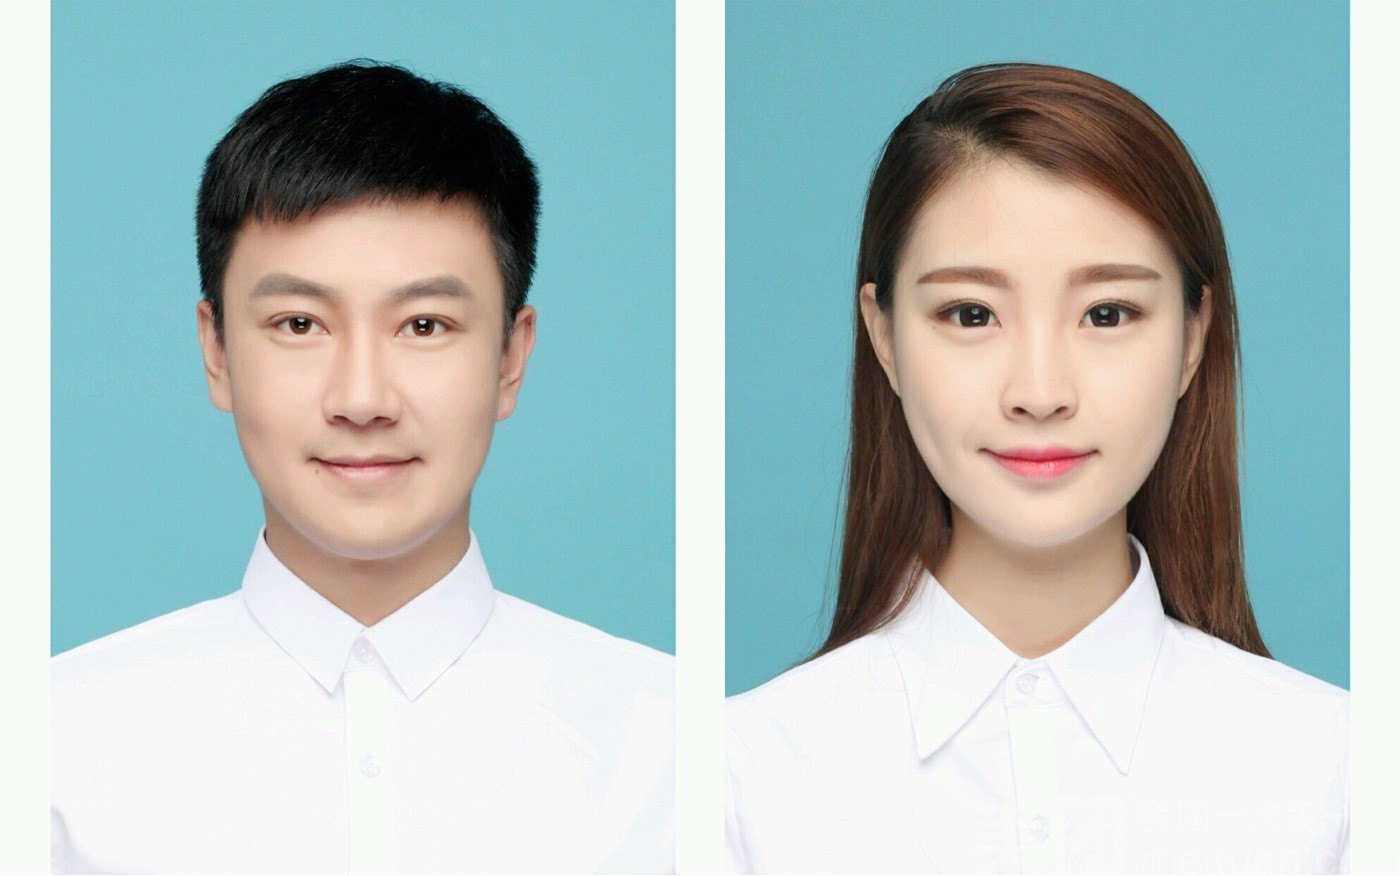unmask: (889, 174, 1183, 513), (224, 234, 535, 523)
